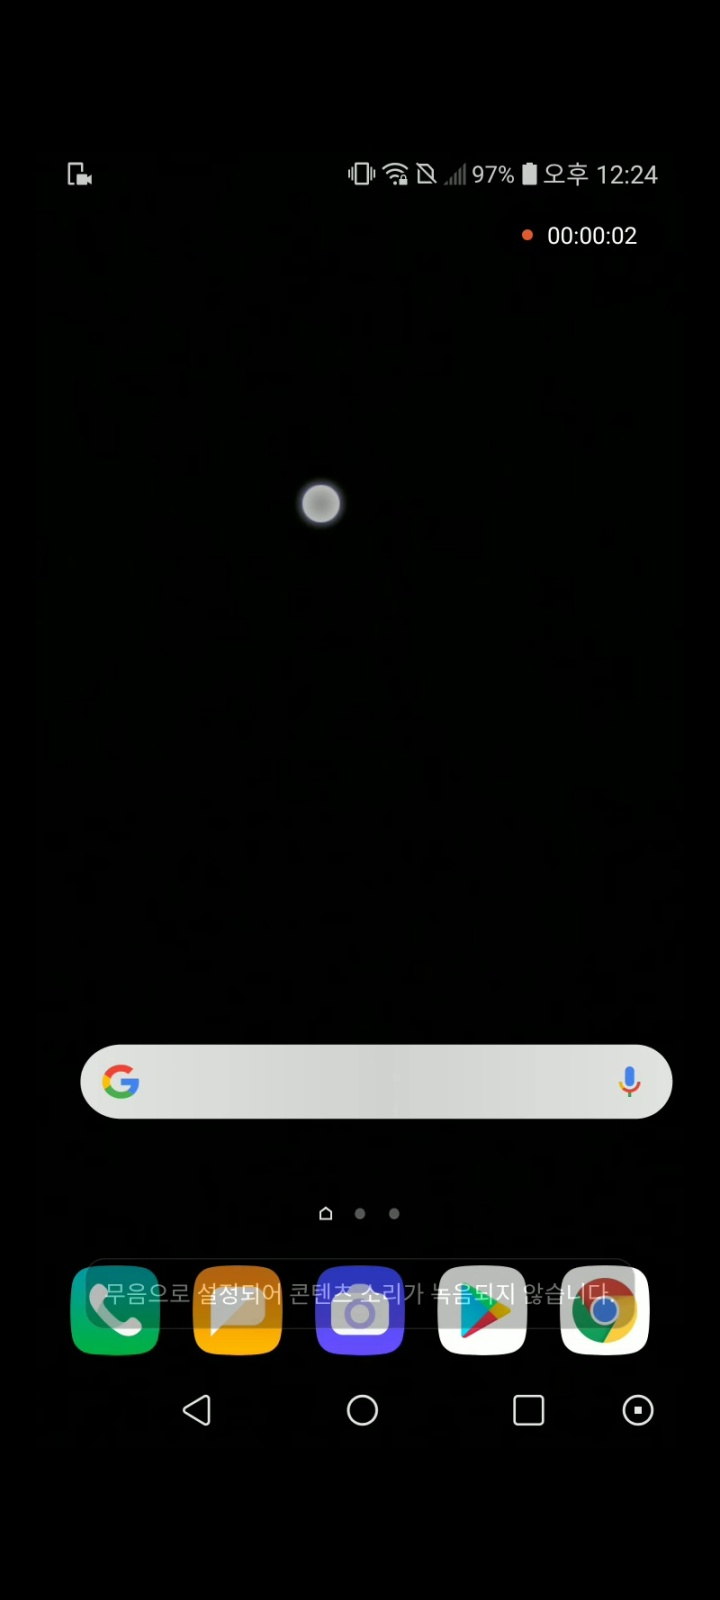Cursor: (298, 483, 343, 528)
